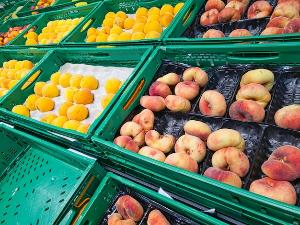apricot: (0, 50, 136, 128), (78, 1, 183, 44), (14, 4, 89, 50), (42, 83, 58, 98), (124, 17, 135, 29), (21, 61, 34, 70), (27, 32, 38, 41)
peach: (110, 59, 300, 224), (192, 0, 300, 42), (175, 81, 199, 100), (248, 0, 273, 18)
